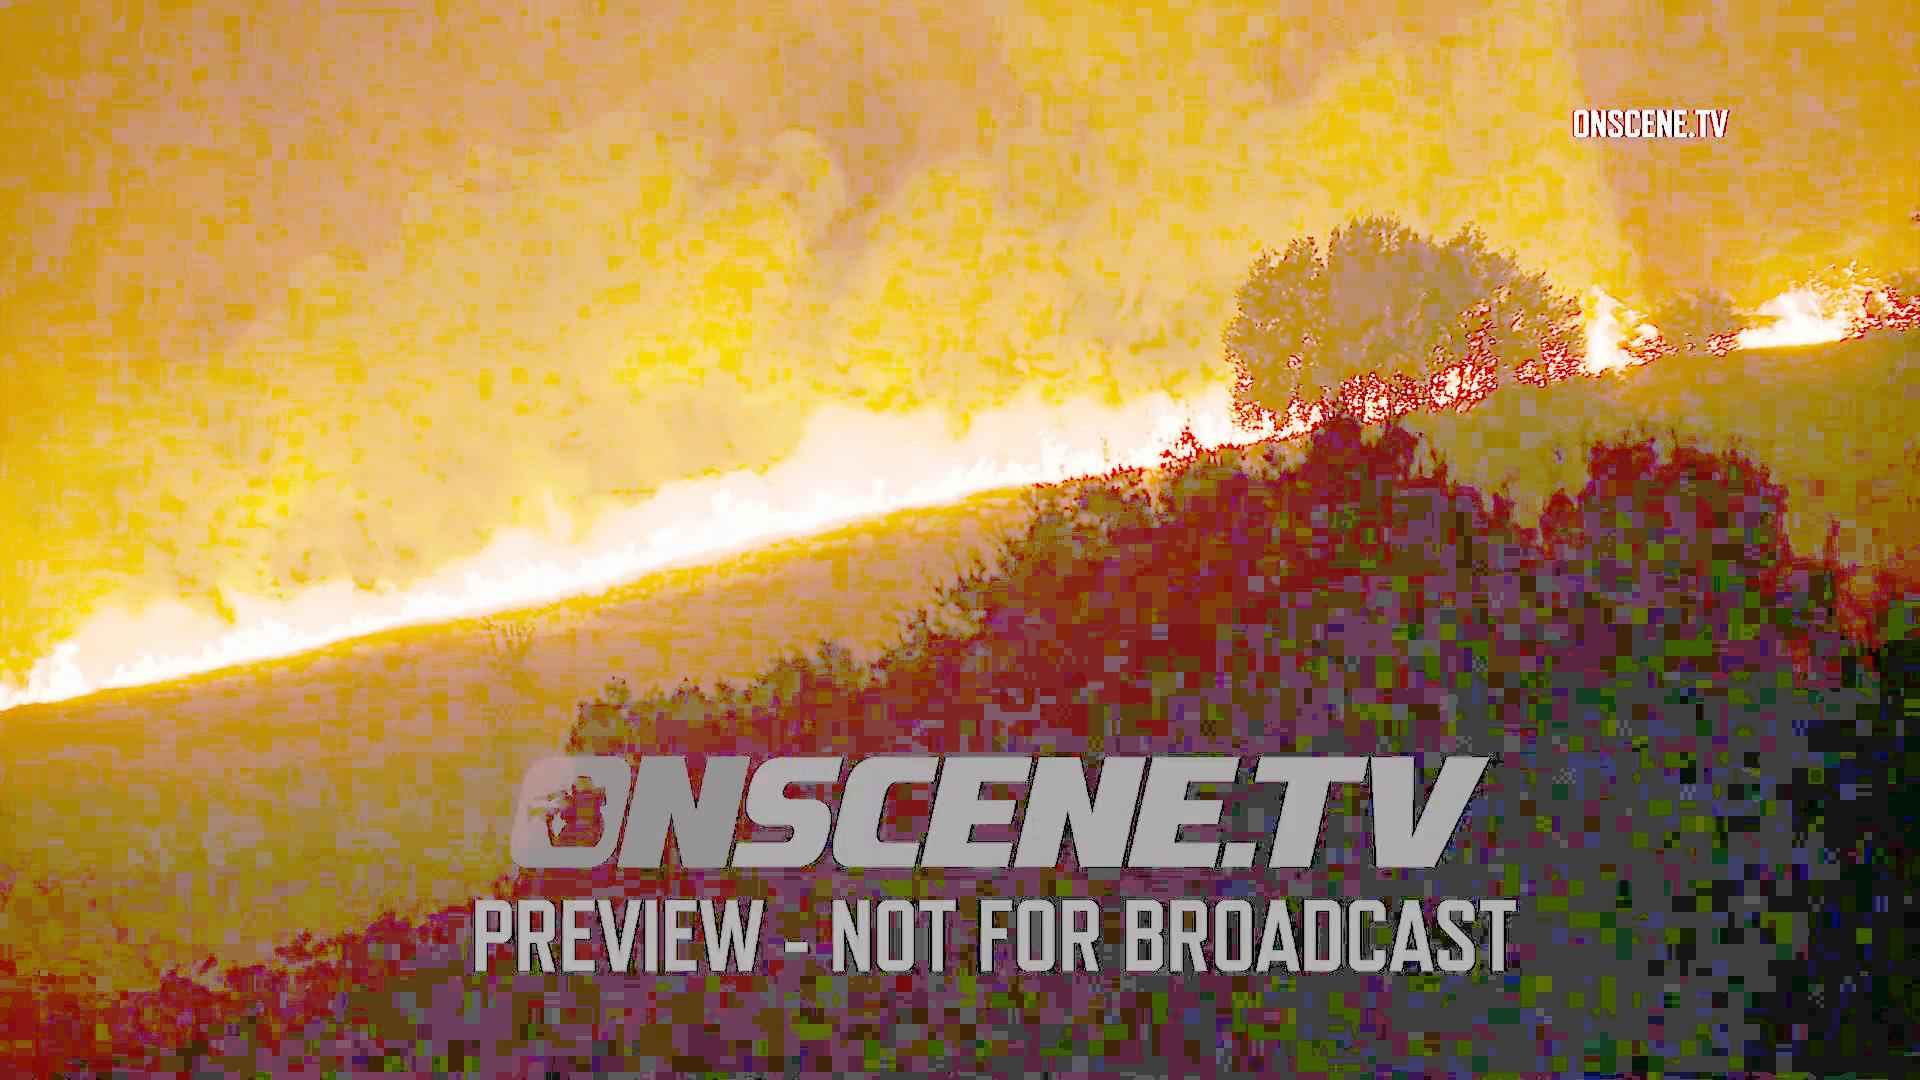fire: (0, 613, 270, 731), (943, 423, 1116, 502), (265, 585, 406, 673), (811, 455, 943, 529), (1738, 265, 1863, 339), (655, 491, 791, 556), (431, 543, 560, 608)
smoke: (0, 0, 790, 410)
